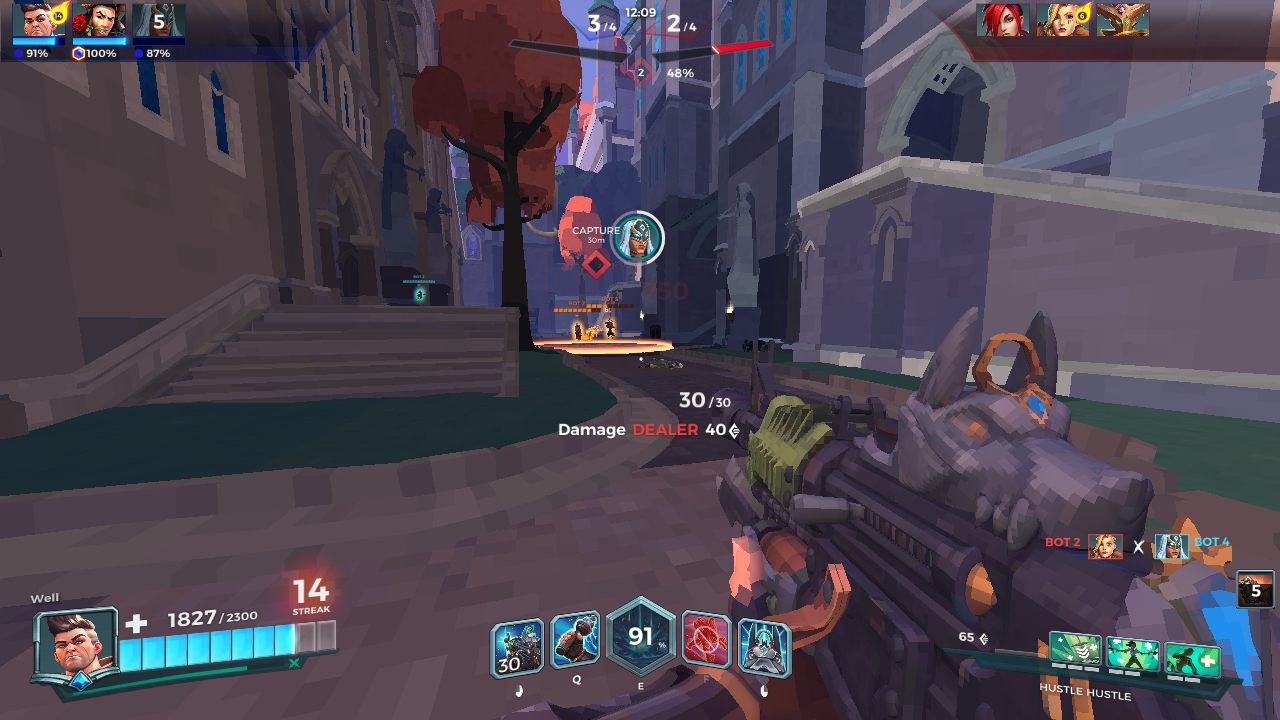model: (605, 315, 619, 341), (572, 320, 583, 342)
